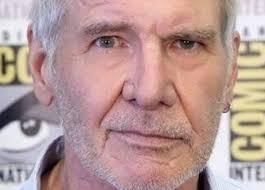normalEye: (83, 17, 217, 61)
normalMouth: (104, 120, 188, 156)
